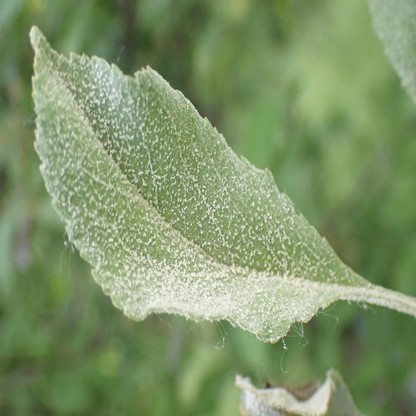powder: (30, 26, 368, 344), (368, 0, 416, 100)
